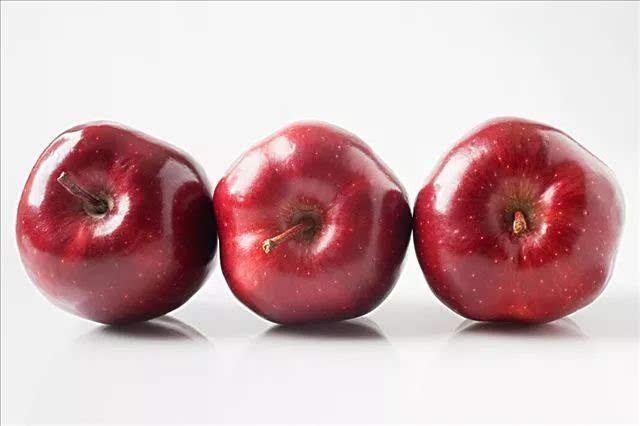apple: (411, 112, 624, 325), (14, 115, 220, 325), (214, 115, 412, 327)
